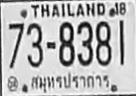1: (120, 19, 125, 65)
3: (26, 22, 42, 67), (76, 21, 92, 65)
7: (8, 22, 24, 66)
8: (95, 20, 111, 65), (58, 21, 74, 65)
SPK: (27, 71, 113, 93)
